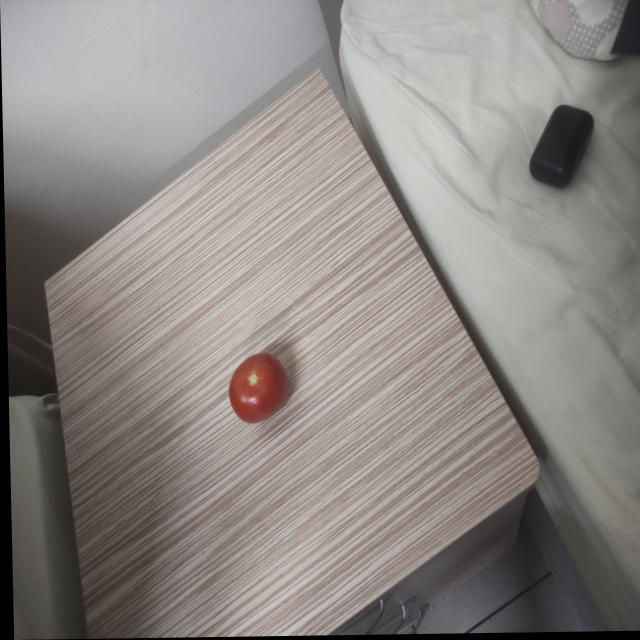kirmizi: (218, 341, 290, 438)
